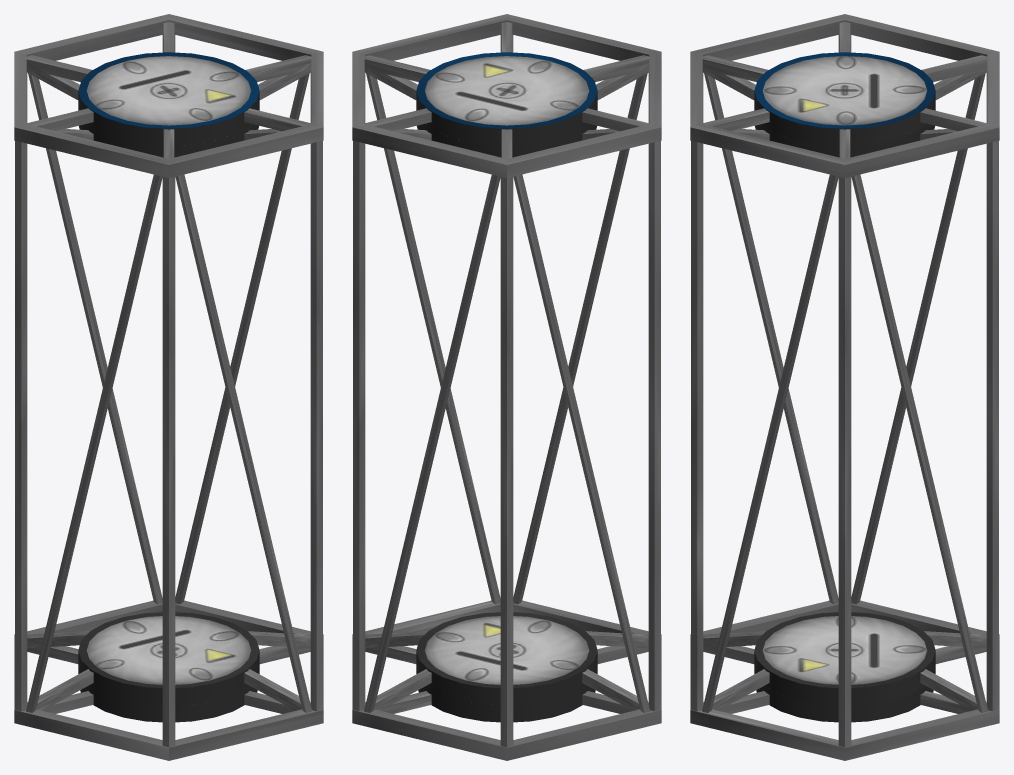
Rendered from HexTrussHollow.FBX.
3 renders of one model, left to right at view 1: azimuth 30°, elevation 25°; view 2: azimuth 150°, elevation 25°; view 3: azimuth 270°, elevation 25°, orthographic.
Parts seen in each view (by area): view 1: EndCap007, EndBeam002, EndCap012, EndBeam003, Pole001, Pole003, Pole002, CrossBeam001, CrossBeam012, CrossBeam008, CrossBeam005, EndCap013 (+12 smaller); view 2: EndCap007, EndBeam002, EndCap012, EndBeam003, Pole004, Pole005, Pole003, CrossBeam009, CrossBeam008, CrossBeam004, CrossBeam001, EndCap013 (+12 smaller); view 3: EndCap007, EndBeam002, EndCap012, EndBeam003, Pole006, Pole002, Pole005, CrossBeam005, CrossBeam004, CrossBeam012, CrossBeam009, EndCap013 (+12 smaller).
Boxes of the visible parts, bbox=[...] form: EndCap007: bbox=[78, 52, 259, 145]; EndBeam002: bbox=[14, 14, 323, 177]; EndCap012: bbox=[78, 612, 259, 705]; EndBeam003: bbox=[14, 600, 323, 760]; Pole001: bbox=[162, 177, 175, 747]; Pole003: bbox=[15, 140, 27, 711]; Pole002: bbox=[310, 140, 322, 711]; CrossBeam001: bbox=[175, 174, 312, 712]; CrossBeam012: bbox=[26, 174, 162, 712]; CrossBeam008: bbox=[28, 73, 162, 604]; CrossBeam005: bbox=[175, 73, 309, 604]; EndCap013: bbox=[78, 668, 259, 722]; EndCap007: bbox=[416, 52, 597, 145]; EndBeam002: bbox=[352, 14, 661, 177]; EndCap012: bbox=[416, 612, 597, 705]; EndBeam003: bbox=[352, 600, 661, 760]; Pole004: bbox=[500, 177, 513, 747]; Pole005: bbox=[353, 140, 365, 711]; Pole003: bbox=[648, 140, 660, 711]; CrossBeam009: bbox=[513, 174, 650, 712]; CrossBeam008: bbox=[364, 174, 500, 712]; CrossBeam004: bbox=[366, 73, 500, 604]; CrossBeam001: bbox=[513, 73, 647, 604]; EndCap013: bbox=[416, 668, 597, 722]; EndCap007: bbox=[754, 52, 935, 145]; EndBeam002: bbox=[690, 14, 999, 177]; EndCap012: bbox=[754, 612, 935, 705]; EndBeam003: bbox=[690, 600, 999, 760]; Pole006: bbox=[838, 177, 851, 747]; Pole002: bbox=[691, 140, 703, 711]; Pole005: bbox=[986, 140, 998, 711]; CrossBeam005: bbox=[851, 174, 988, 712]; CrossBeam004: bbox=[702, 174, 838, 712]; CrossBeam012: bbox=[704, 73, 838, 604]; CrossBeam009: bbox=[851, 73, 985, 604]; EndCap013: bbox=[754, 668, 935, 722].
Bounding box in the file's own units: 2.46 × 2.13 × 4.53.
Materials: 1 (1 with a texture image).
